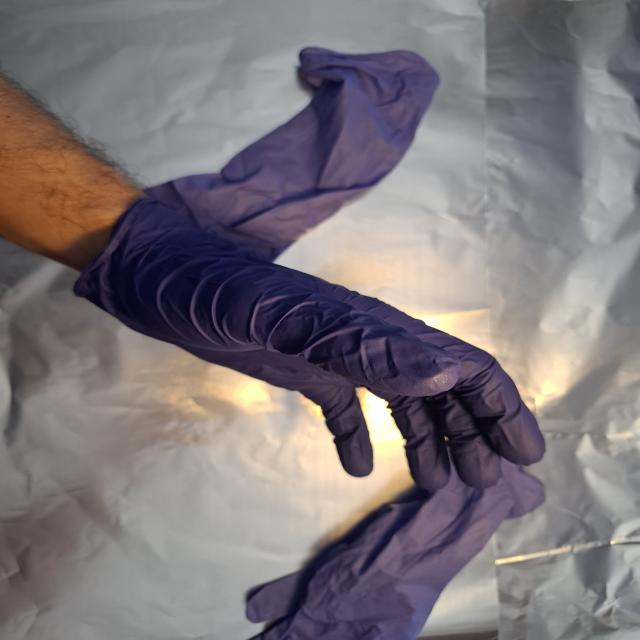glove_on: (71, 193, 552, 495)
